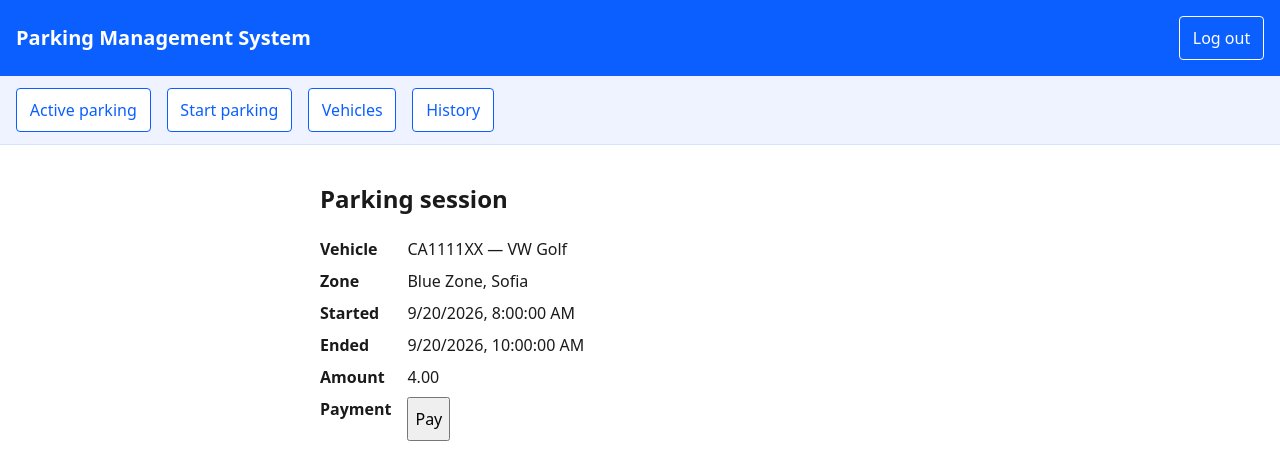
Test: SessionDetailPage payment › tapping Pay posts the payment once, shows the pending state, and a mocked COMPLETED response shows Paid and makes no further status requests
Step 1. Click the button "Pay" → (429, 419), box x1=408 y1=397 x2=450 y2=441
Wait 62010 ms
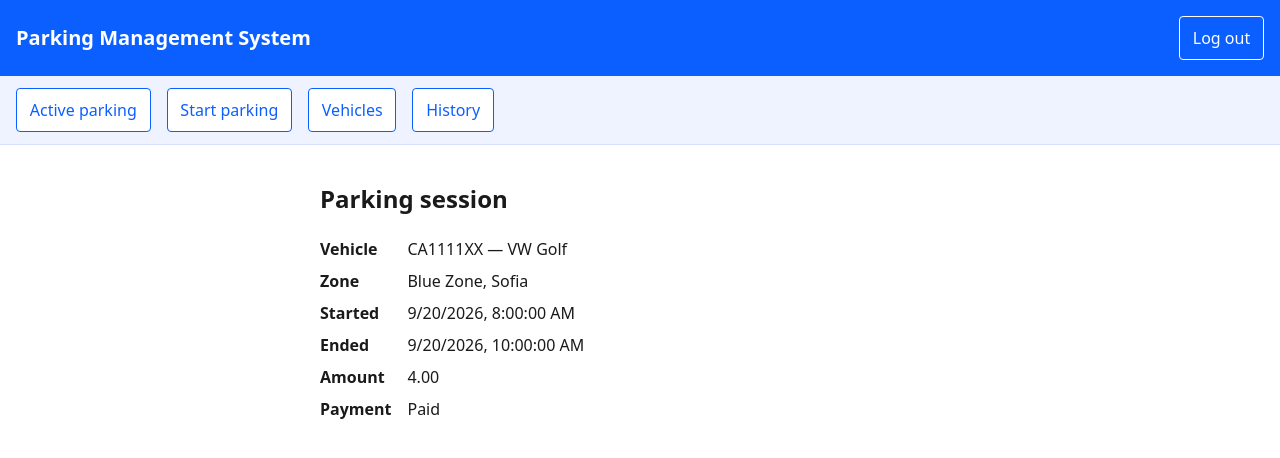
Now the text "Paid" is shown, box x1=408 y1=398 x2=440 y2=420
